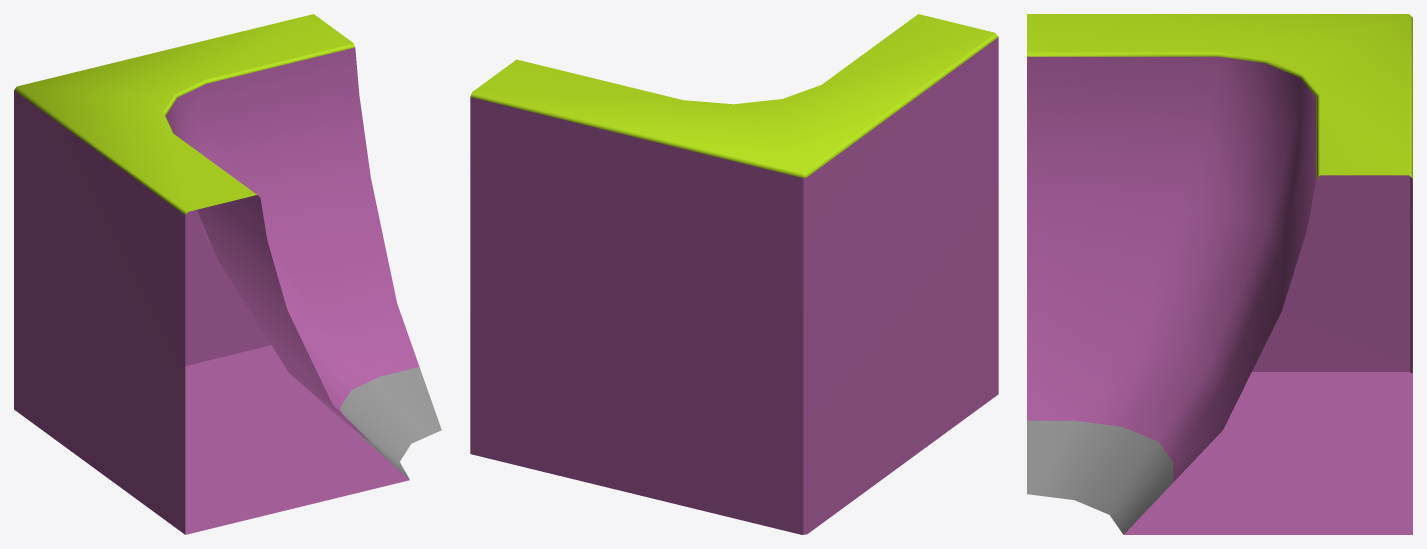
The model's file is S_M_Terrain_Bowl003_2x2x2_LOD0.FBX.
The picture shows the model from 3 angles, left to right: view 1: azimuth 30°, elevation 25°; view 2: azimuth 150°, elevation 25°; view 3: azimuth 270°, elevation 25°; orthographic projection. The views are drawn at different scales.
Visible parts, largest first — view 1: S_M_Terrain_Bowl003_2x2x2_LOD0; view 2: S_M_Terrain_Bowl003_2x2x2_LOD0; view 3: S_M_Terrain_Bowl003_2x2x2_LOD0.
Boxes of the visible parts, box(x1,y1,x2,y2) form: S_M_Terrain_Bowl003_2x2x2_LOD0: box(14, 14, 441, 534); S_M_Terrain_Bowl003_2x2x2_LOD0: box(470, 14, 998, 534); S_M_Terrain_Bowl003_2x2x2_LOD0: box(1027, 14, 1412, 534).
Bounding box in the file's own units: 200 × 206 × 200.
